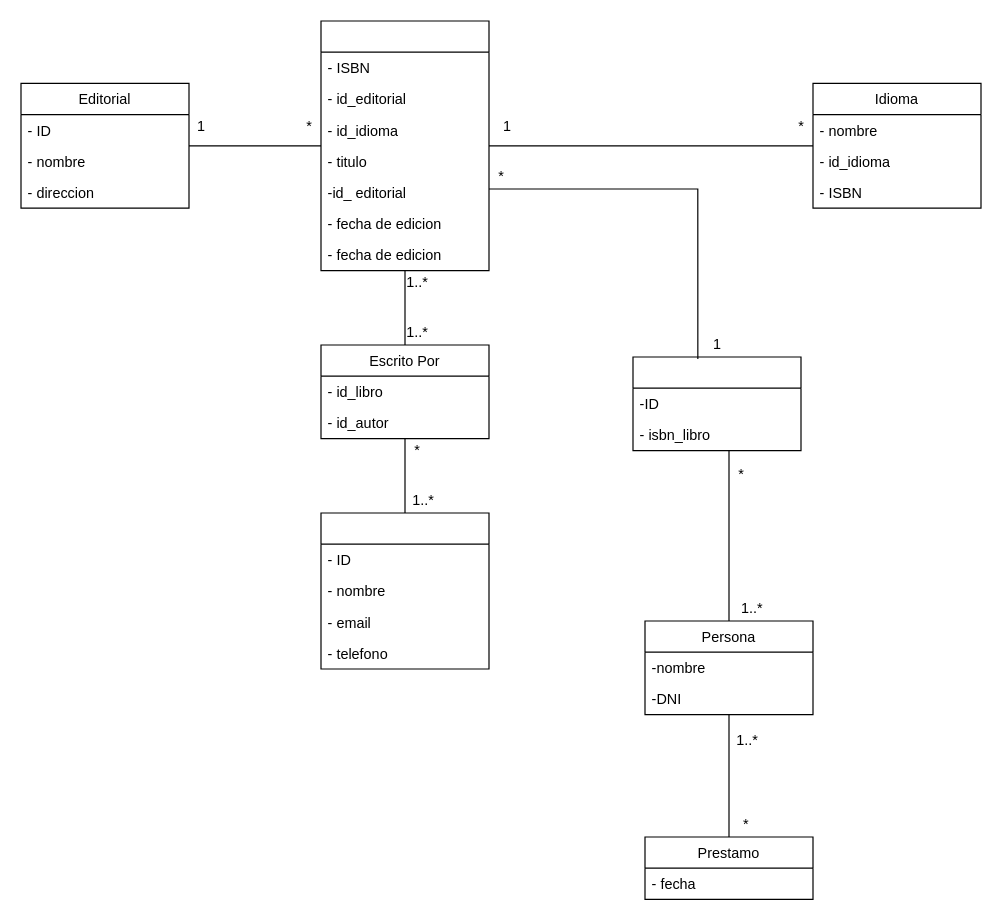
This 1002x924 diagram has some shape labels left out. The box of each missing label's shape, as (x1, y1, x2, y2) in pixels:
Autor: (320, 512, 489, 669)
Ejemplar: (632, 356, 801, 451)
Libro: (320, 20, 489, 271)
